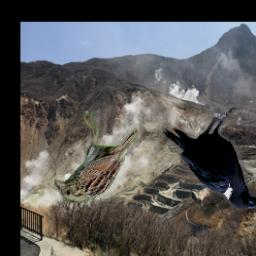Crow: (162, 105, 256, 209)
Sparrow: (54, 111, 138, 203)
